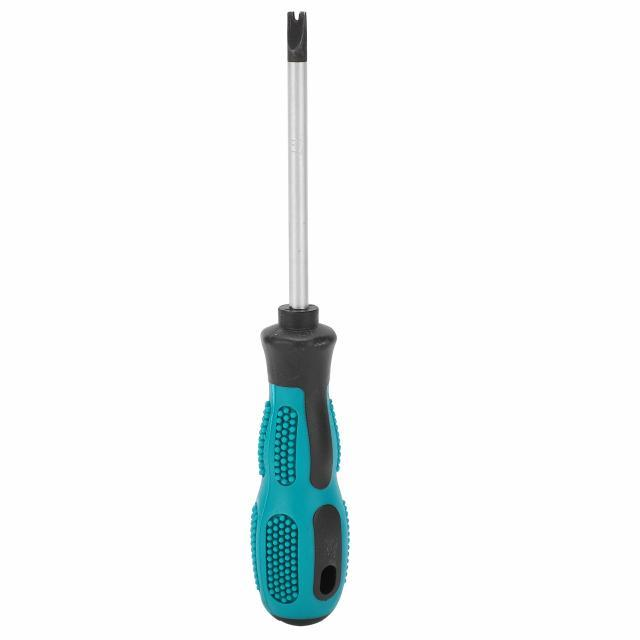screwdriver: (248, 8, 350, 628)
